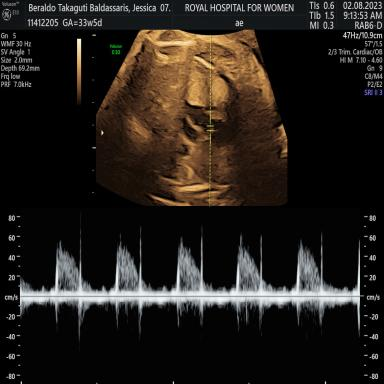Ultrasound-Waves: (25, 212, 356, 384)
